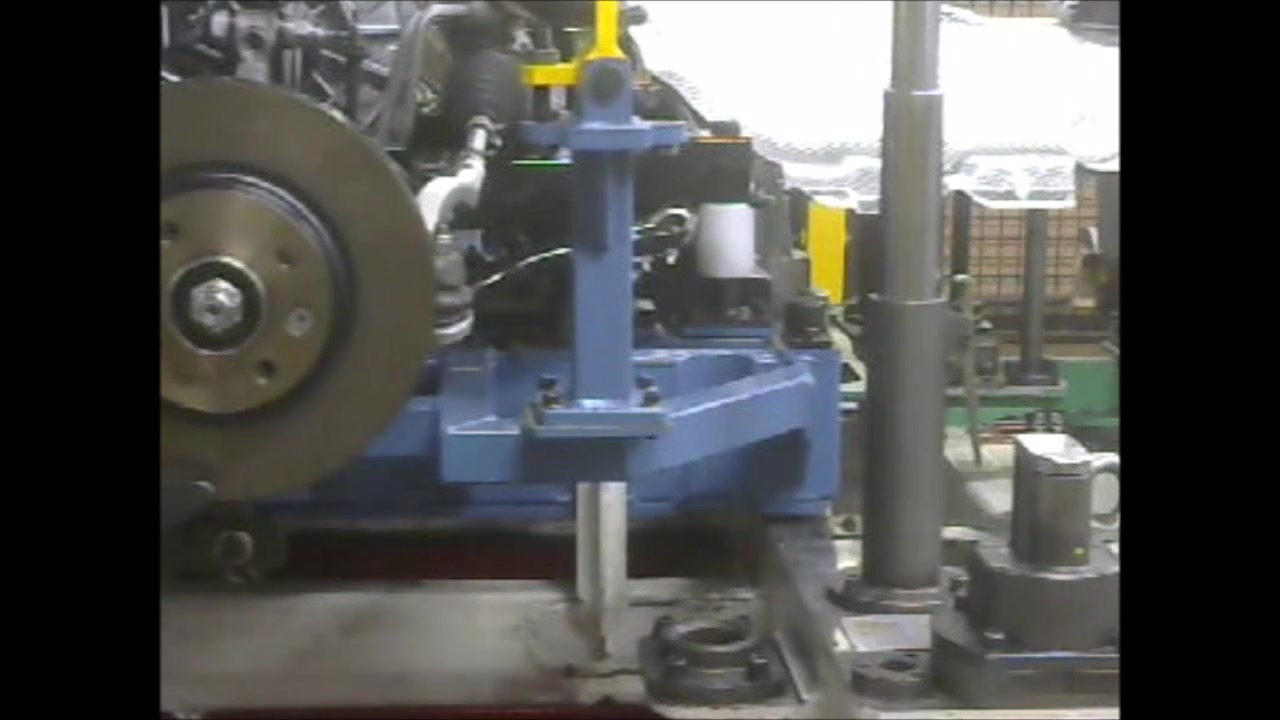DD2: (164, 73, 446, 500)
